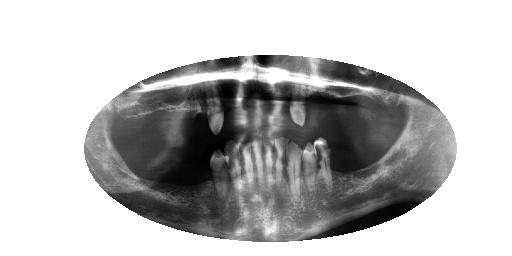Cavity: (205, 81, 227, 136), (313, 135, 333, 193), (287, 136, 304, 199), (274, 136, 290, 190), (301, 138, 317, 190), (211, 147, 227, 198), (289, 85, 305, 129)
